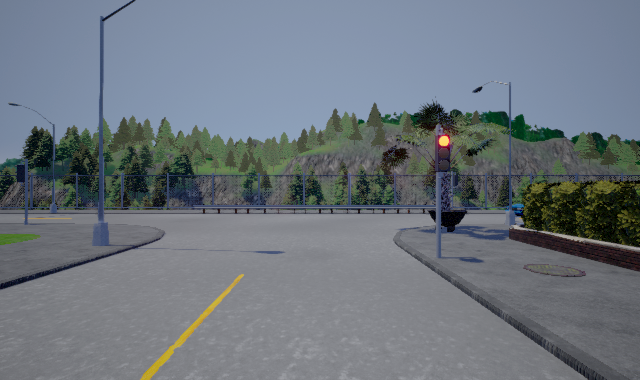traffic_light: (435, 128, 450, 179)
